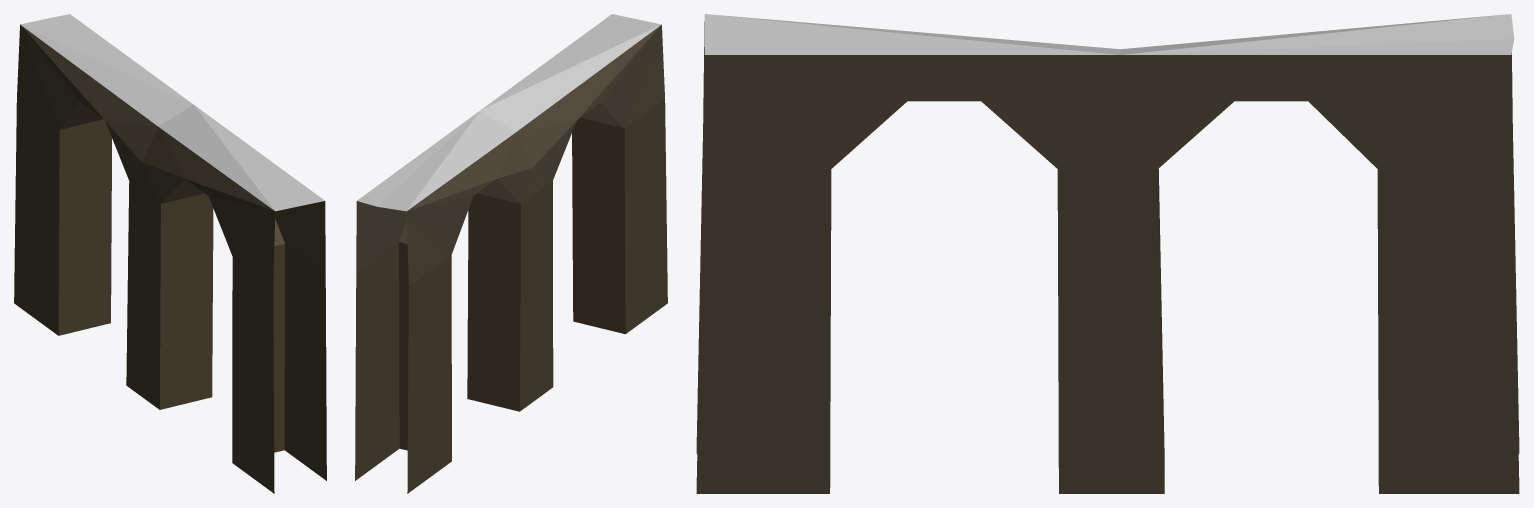
File: TPL_BRIDGE_V1.OBJ
3 renders of one model, left to right at view 1: azimuth 30°, elevation 25°; view 2: azimuth 150°, elevation 25°; view 3: azimuth 270°, elevation 25°, orthographic. The views are drawn at different scales.
Parts seen in each view (by area): view 1: TPL_BRIDGE_V1; view 2: TPL_BRIDGE_V1; view 3: TPL_BRIDGE_V1.
Part boxes in pixels (x1=…): TPL_BRIDGE_V1: x1=14, y1=14, x2=326, y2=493; TPL_BRIDGE_V1: x1=355, y1=14, x2=667, y2=493; TPL_BRIDGE_V1: x1=696, y1=14, x2=1519, y2=493.
Bounding box in the file's own units: 2.78 × 13.95 × 23.54.
